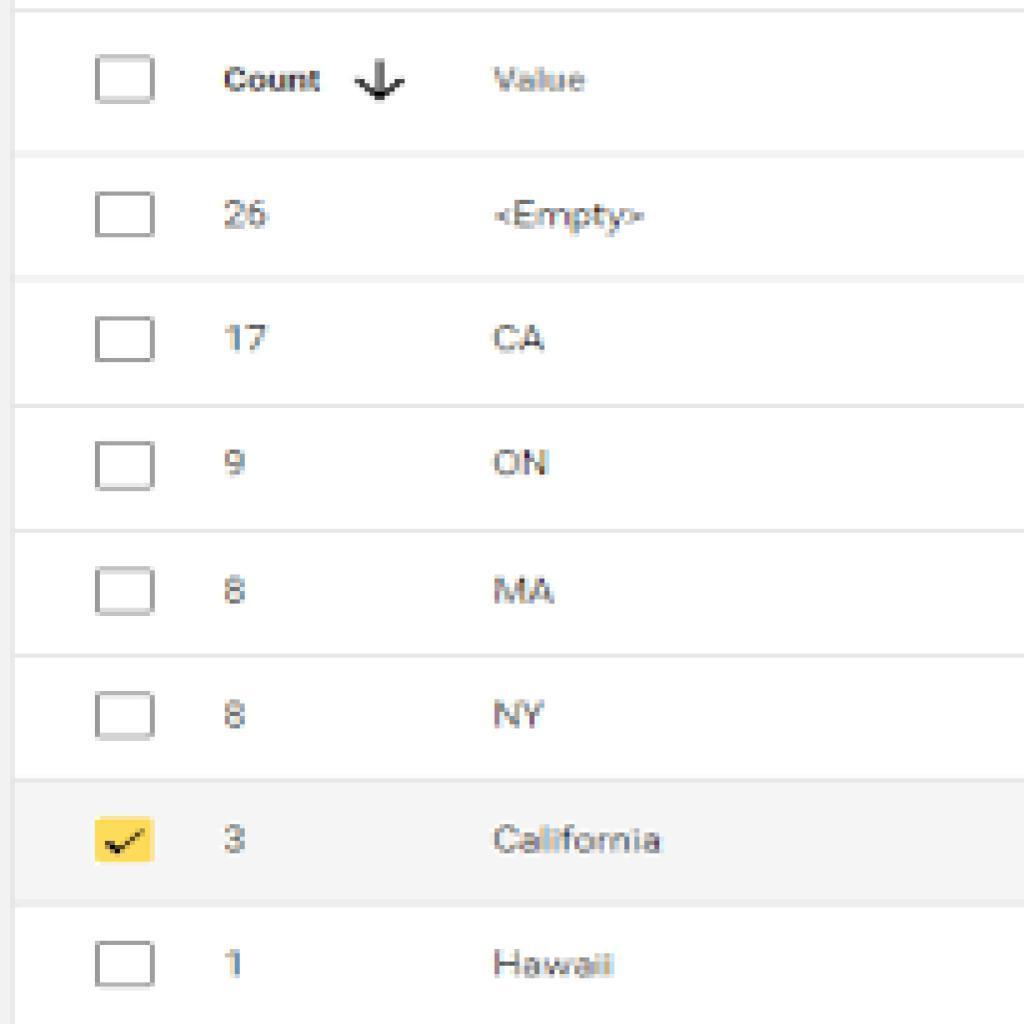checkbox: (95, 814, 158, 865), (95, 314, 157, 365), (97, 443, 157, 493), (97, 692, 158, 739), (96, 59, 156, 104), (98, 569, 155, 616), (98, 193, 154, 237), (99, 942, 155, 986)
table: (15, 17, 1023, 1018)
